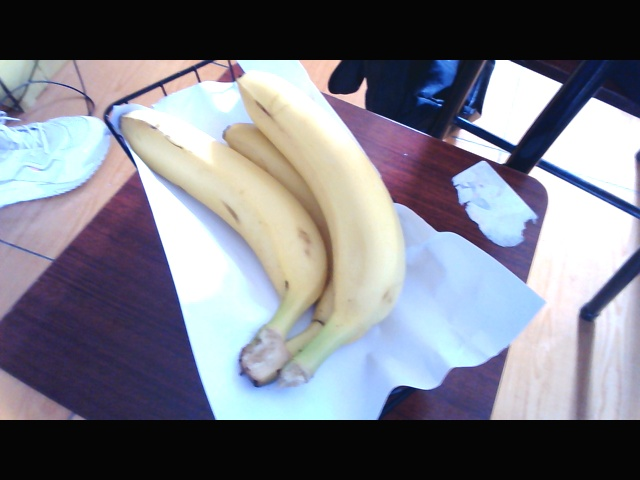banana: (165, 86, 404, 393)
